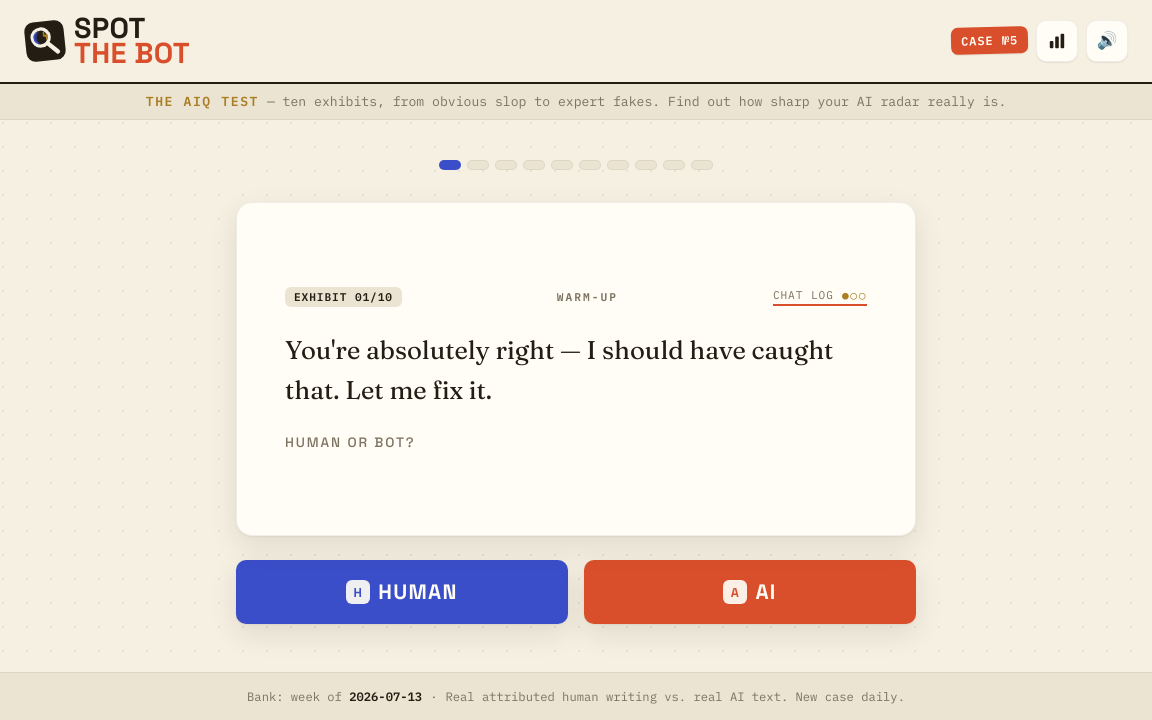
Test: App › opens and closes the stats panel
Click the button named "Statistics". click: x=1057, y=41
box: [1036, 20, 1078, 62]
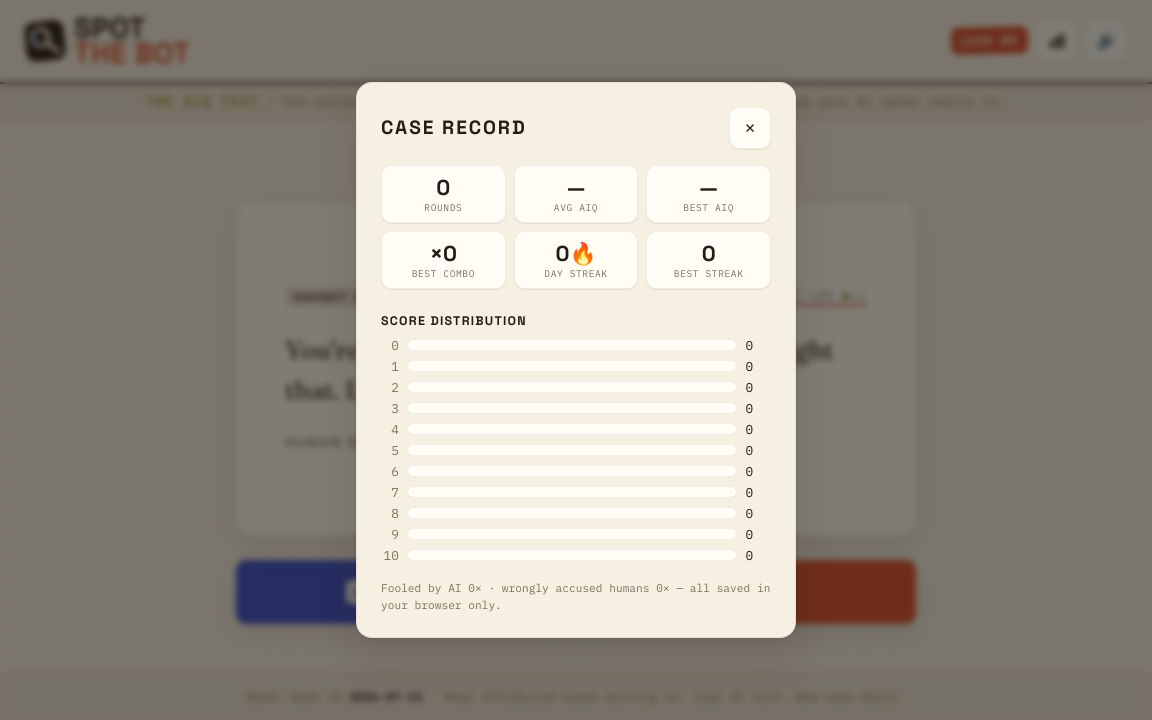
Expected: the dialog "CASE RECORD" is shown, [356, 82, 796, 638]
Click the button named "Close statistics". click: x=750, y=128
box: [729, 107, 771, 149]
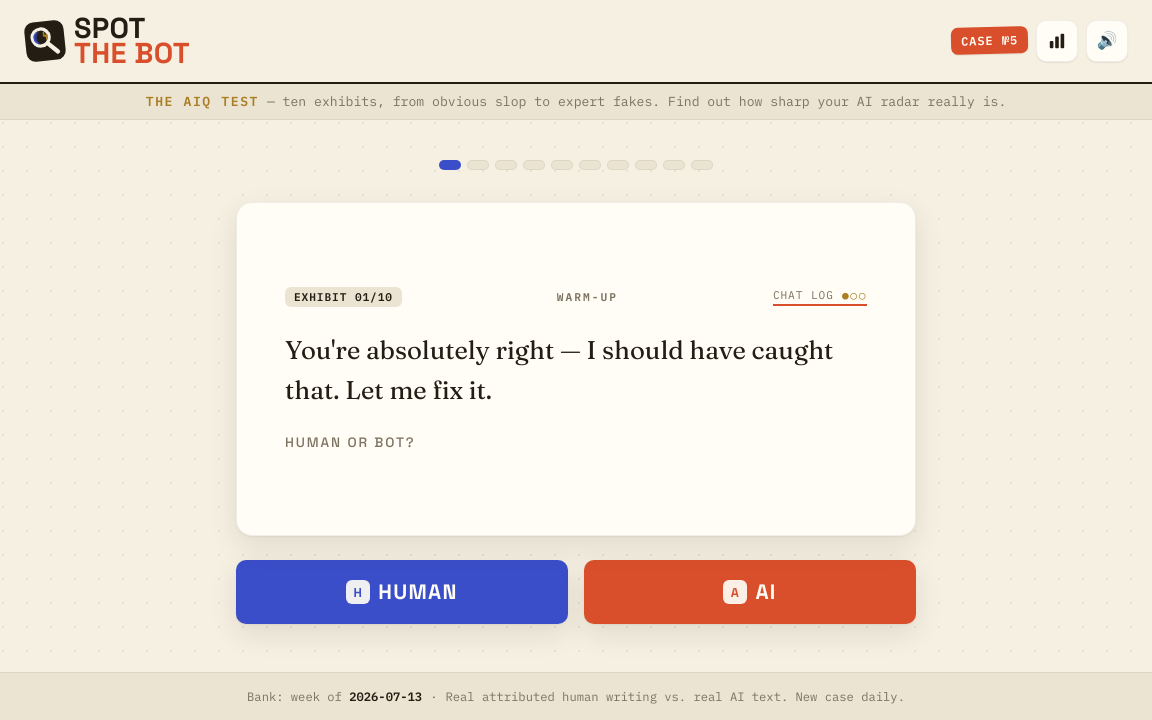
Expected: the dialog is gone
